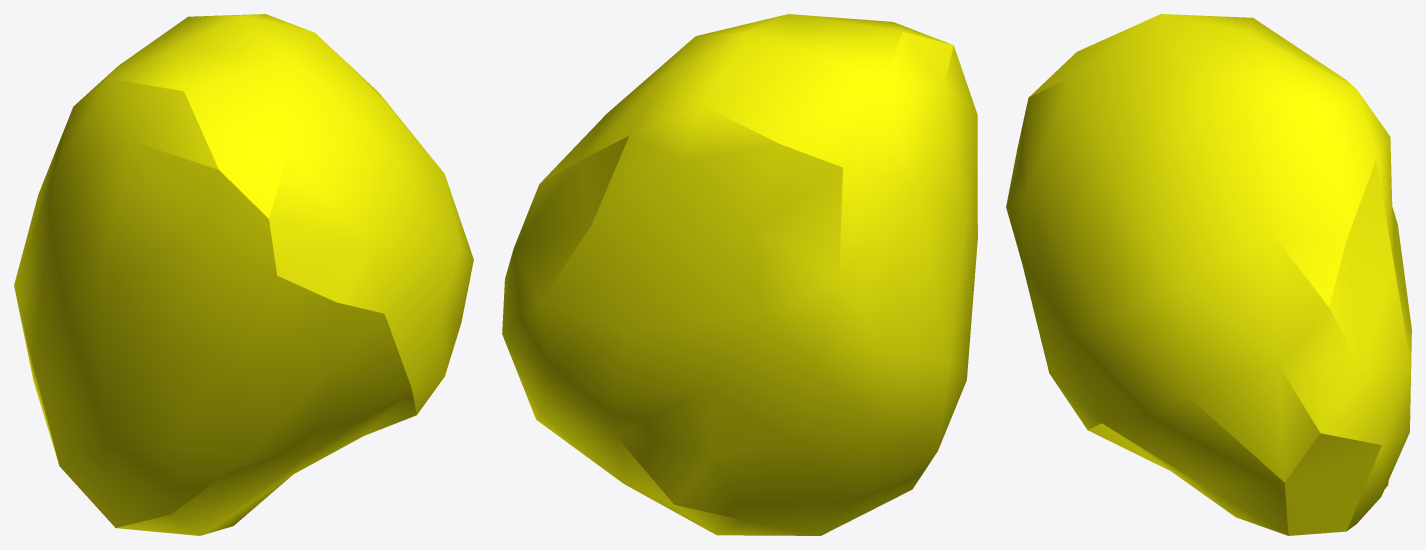
File: kaykit-rock-3-i-color-1.glb
3 renders of one model, left to right at view 1: azimuth 30°, elevation 25°; view 2: azimuth 150°, elevation 25°; view 3: azimuth 270°, elevation 25°, orthographic. The views are drawn at different scales.
Parts seen in each view (by area): view 1: Rock_3_I_Color1; view 2: Rock_3_I_Color1; view 3: Rock_3_I_Color1.
Boxes of the visible parts, bbox=[...] form: Rock_3_I_Color1: bbox=[14, 14, 473, 535]; Rock_3_I_Color1: bbox=[502, 14, 977, 535]; Rock_3_I_Color1: bbox=[1006, 14, 1411, 535].
Bounding box in the file's own units: 1.92 × 2.11 × 1.64.
